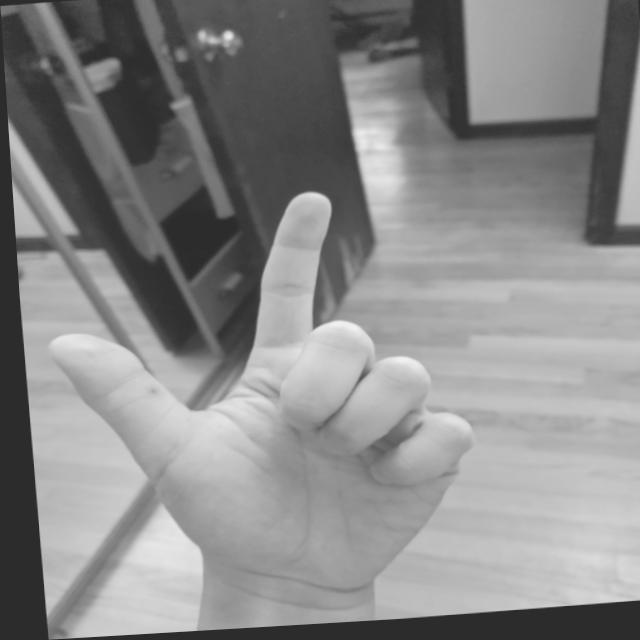L: (21, 178, 490, 603)
